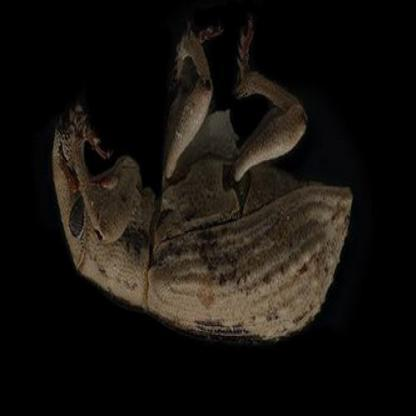rice-bug: (49, 38, 356, 341)
